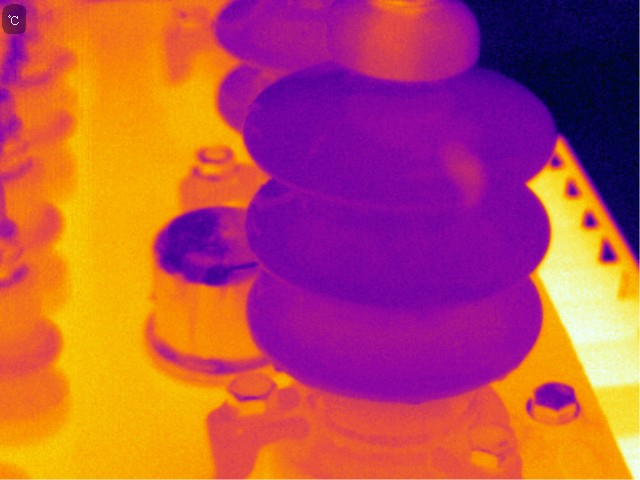Oil: (359, 1, 458, 89), (436, 140, 490, 208), (273, 358, 287, 376)
